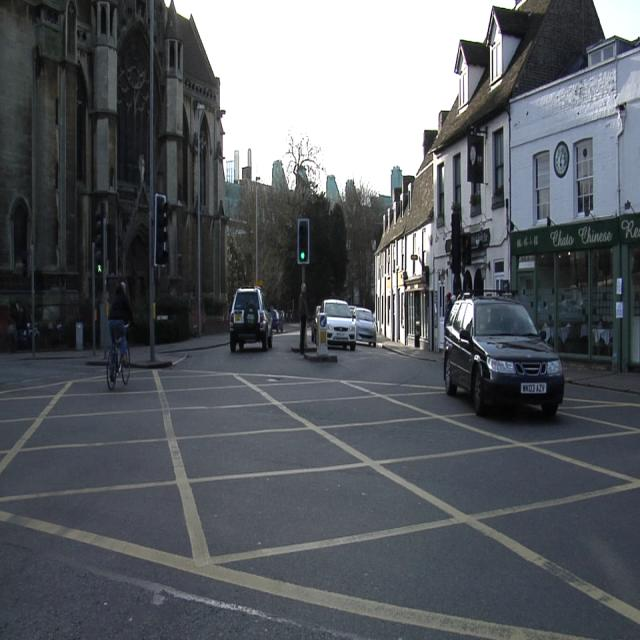Bicyclist: (107, 284, 131, 389)
Building: (431, 0, 603, 325), (1, 4, 150, 348), (513, 36, 639, 370), (226, 129, 382, 311), (155, 0, 224, 339), (375, 135, 435, 348)
Car: (444, 298, 563, 415), (230, 289, 272, 351), (319, 300, 355, 350), (355, 309, 375, 345)
Road: (2, 333, 639, 620)
Tree: (284, 131, 346, 308), (284, 126, 325, 207)
